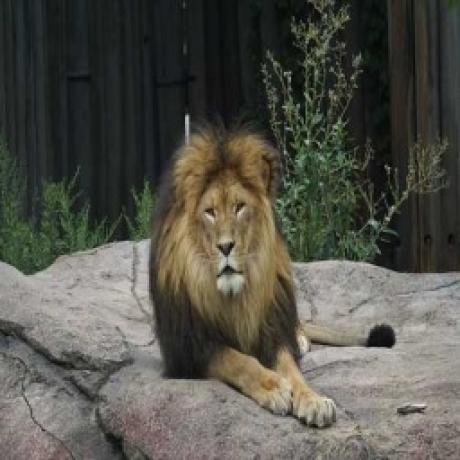Lion: (147, 122, 399, 431)
